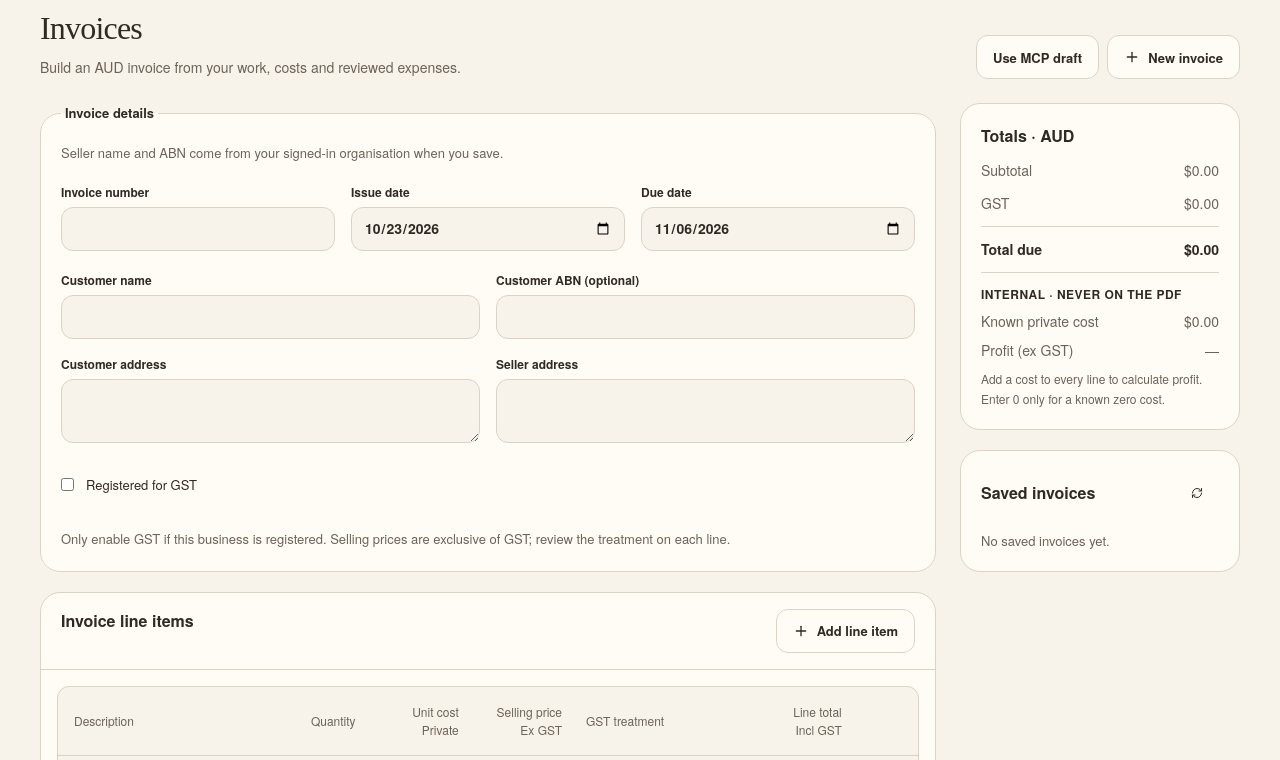
Scenario: refreshes reviewed expenses without replacing unsaved invoice fields
Step 1. Click the button "Use MCP draft" → (1038,57), box [976,35,1099,79]
(page scrolled)
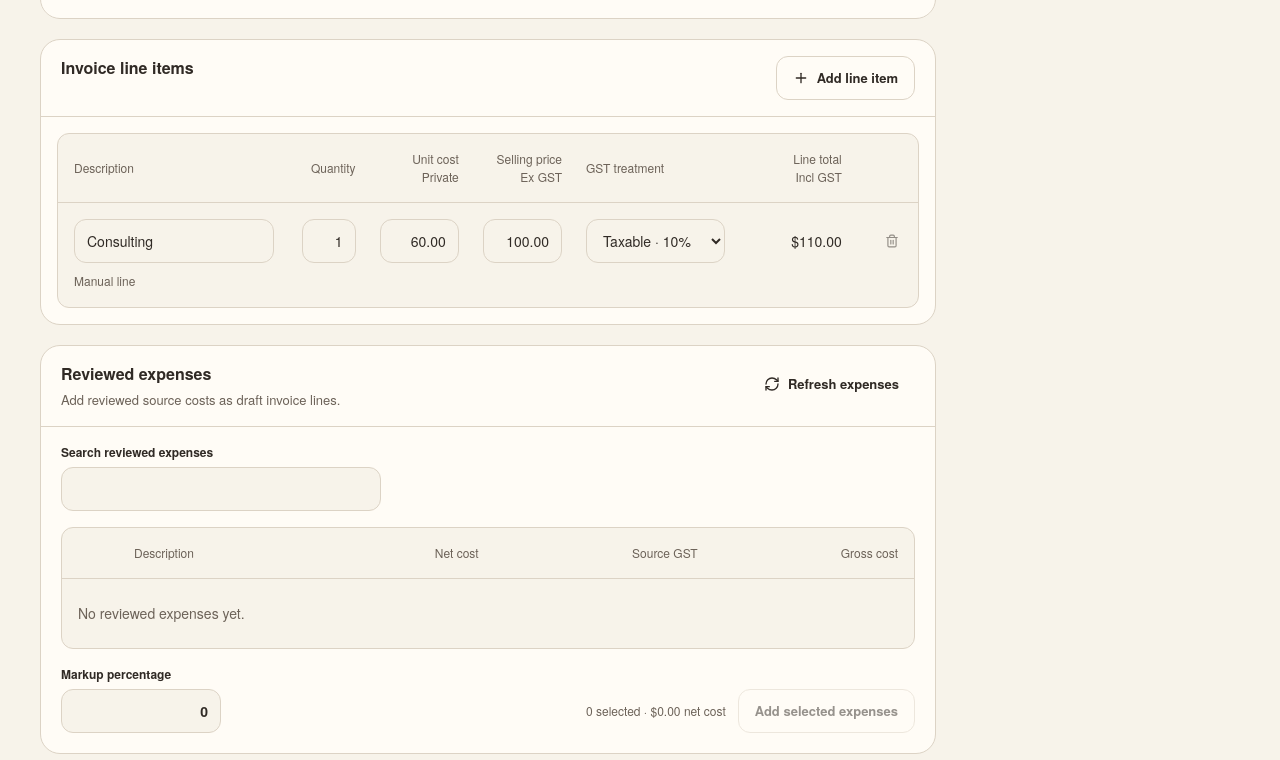
Step 2. Click the button "Refresh expenses" → (831,384), box [748,362,915,406]
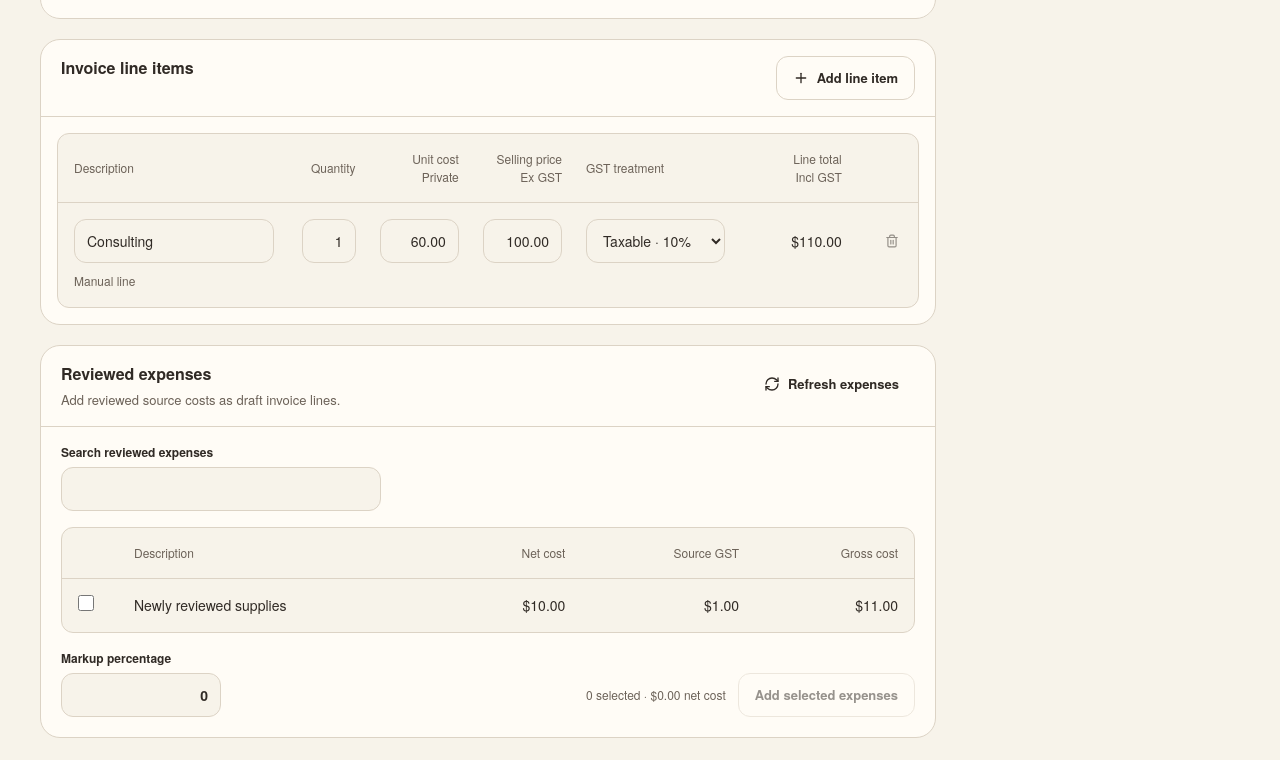
Expected: the field showing "Consulting" is shown, [74,219,274,263]
Expected: the checkbox named "Select Newly reviewed supplies" is shown, [78,595,94,611]
